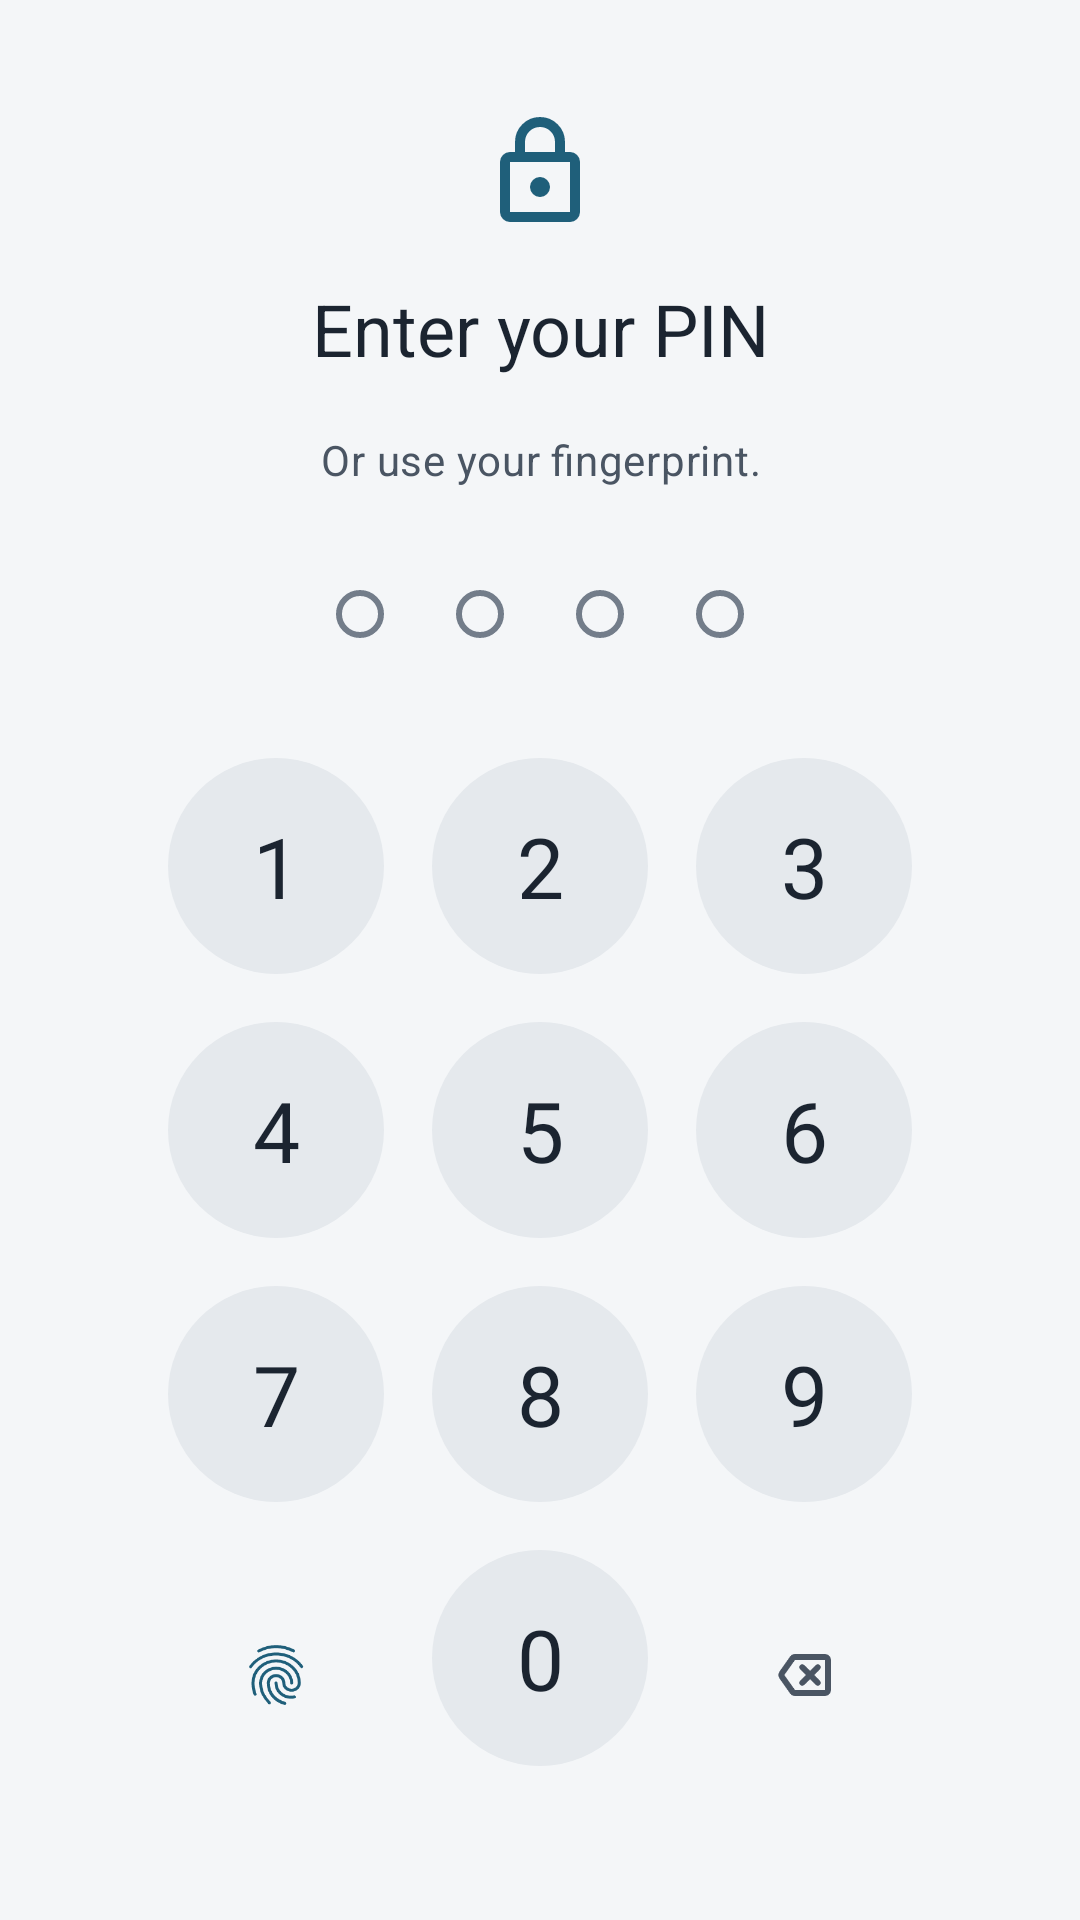

Icon click points for this 1080 x 1920 phone screenshot, format [x,y]:
Delete last digit: [804,1675]
lock: [540,169]
Use fingerprint: [276,1675]
